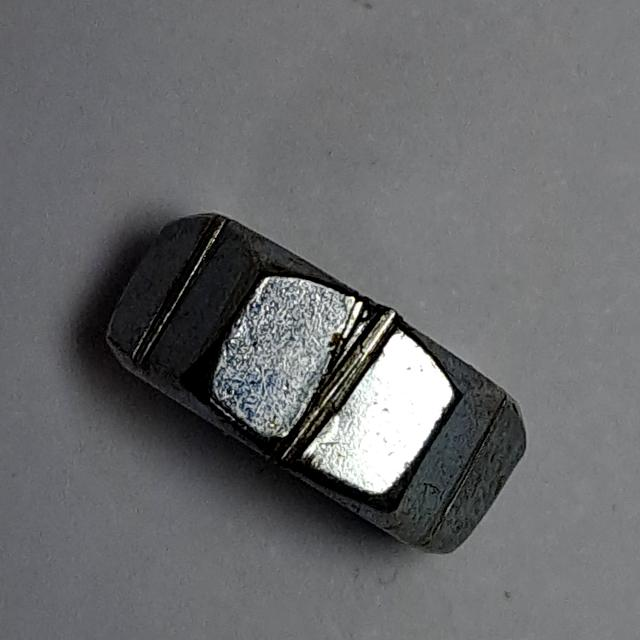Side_Scratches: (98, 203, 542, 569)
